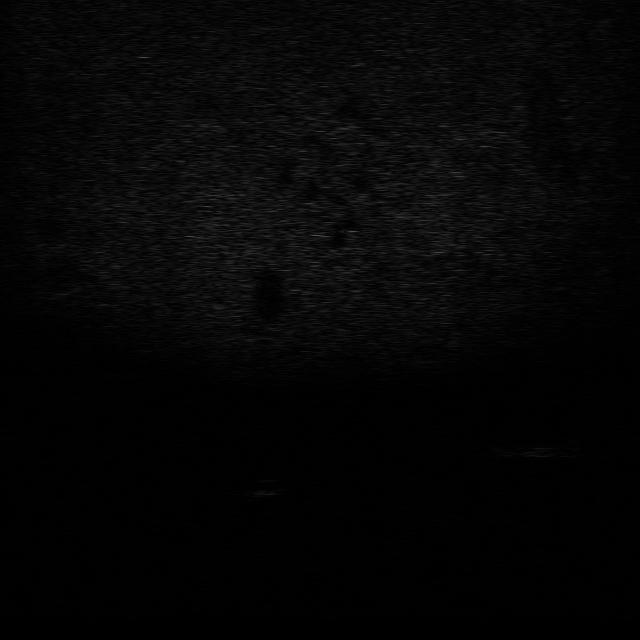ball: (242, 474, 290, 499)
human body: (488, 433, 580, 462)
